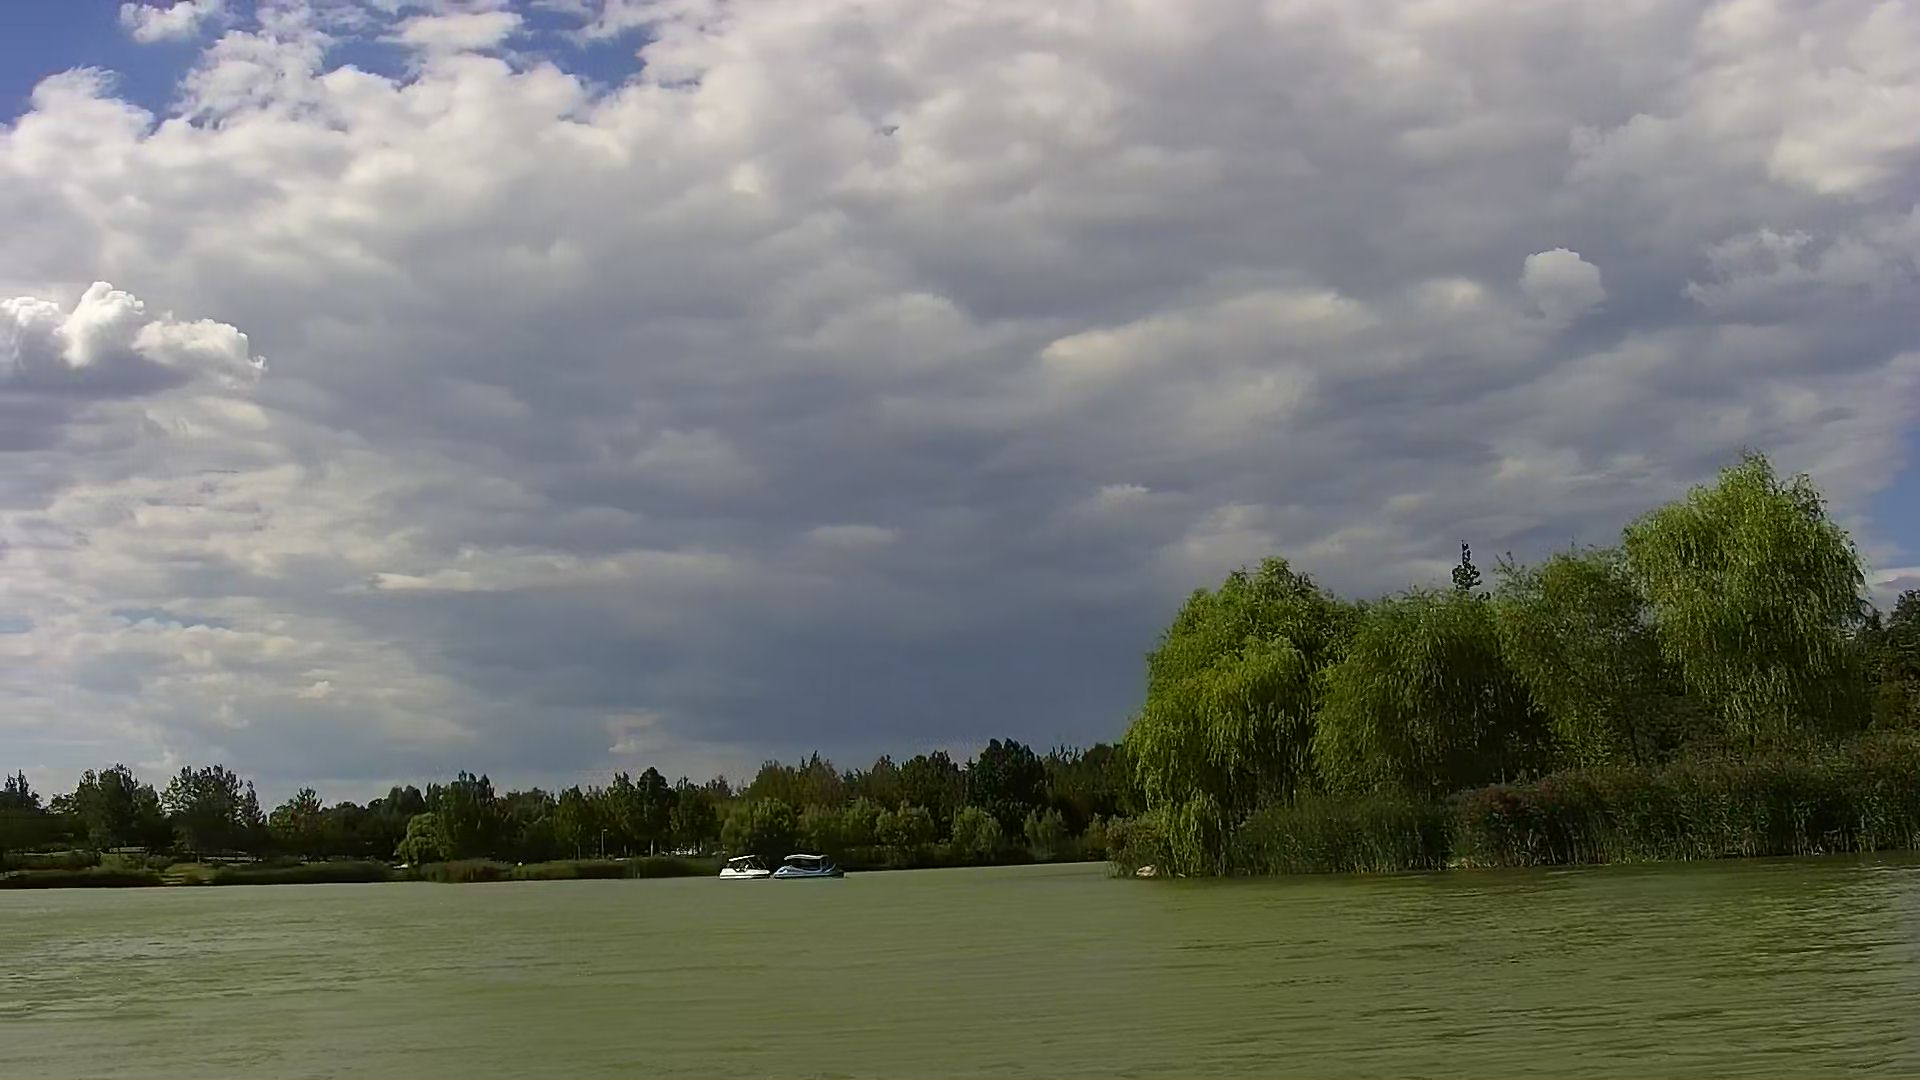boat: (771, 853, 845, 882), (716, 851, 771, 882)
rock: (1135, 860, 1162, 880)
